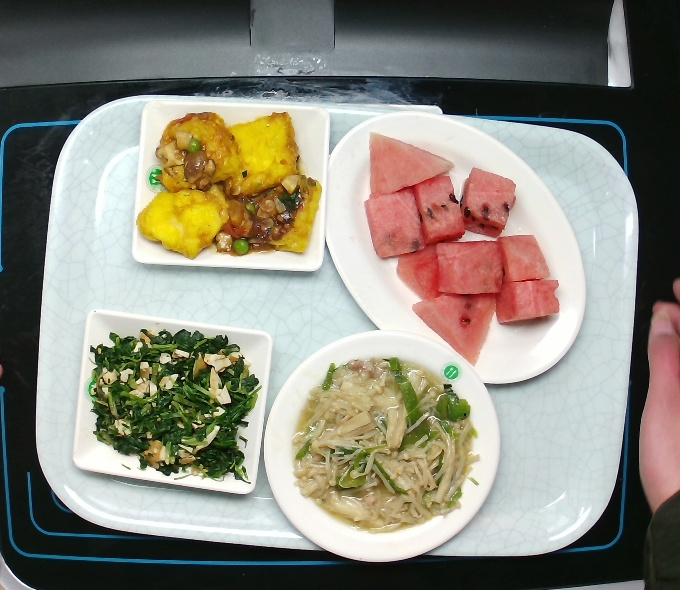wcq-CuiPiDouFu: (131, 106, 329, 262)
wcq-JinZhenGu: (283, 339, 484, 541)
wcq-MaLanTouChaoDouGan: (84, 321, 266, 490)
wcq-XiGua: (362, 124, 564, 372)
